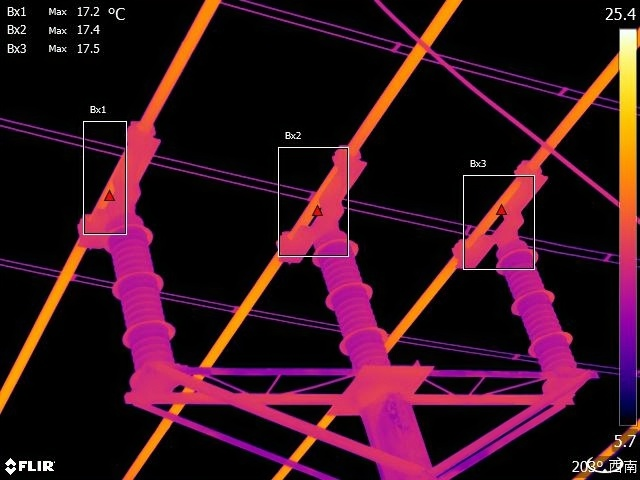post insulator: (106, 228, 190, 375), (306, 232, 395, 368), (499, 241, 582, 376)
